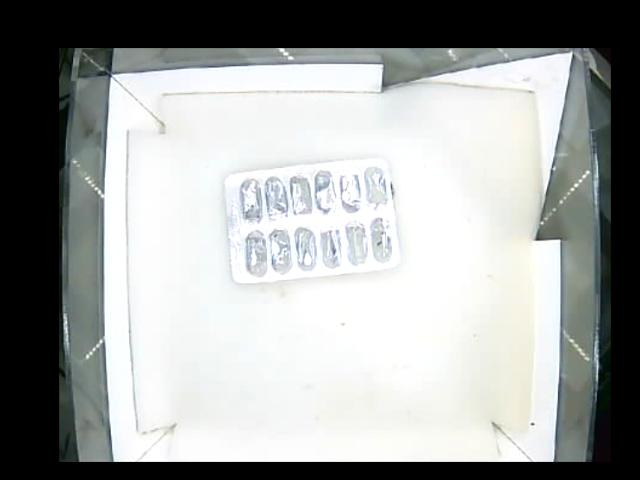Medicine: (224, 154, 399, 281)
